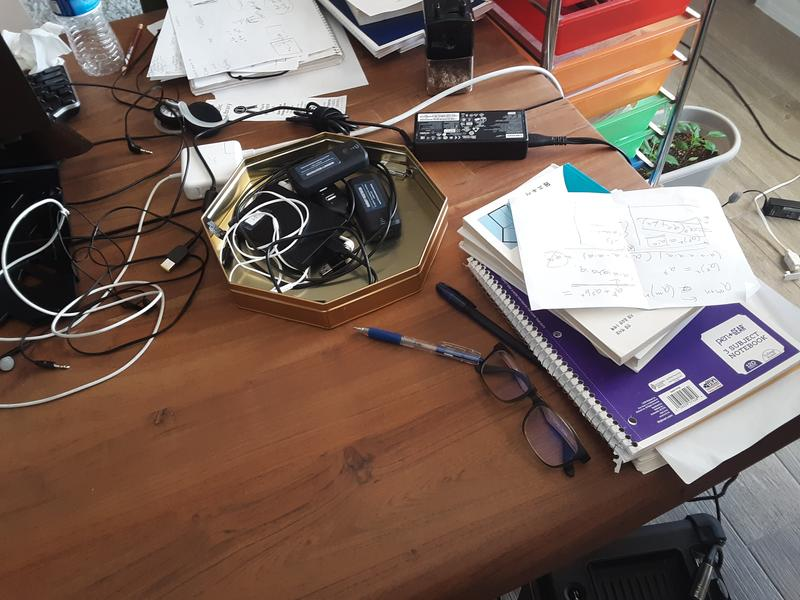glasses: (471, 340, 592, 480)
